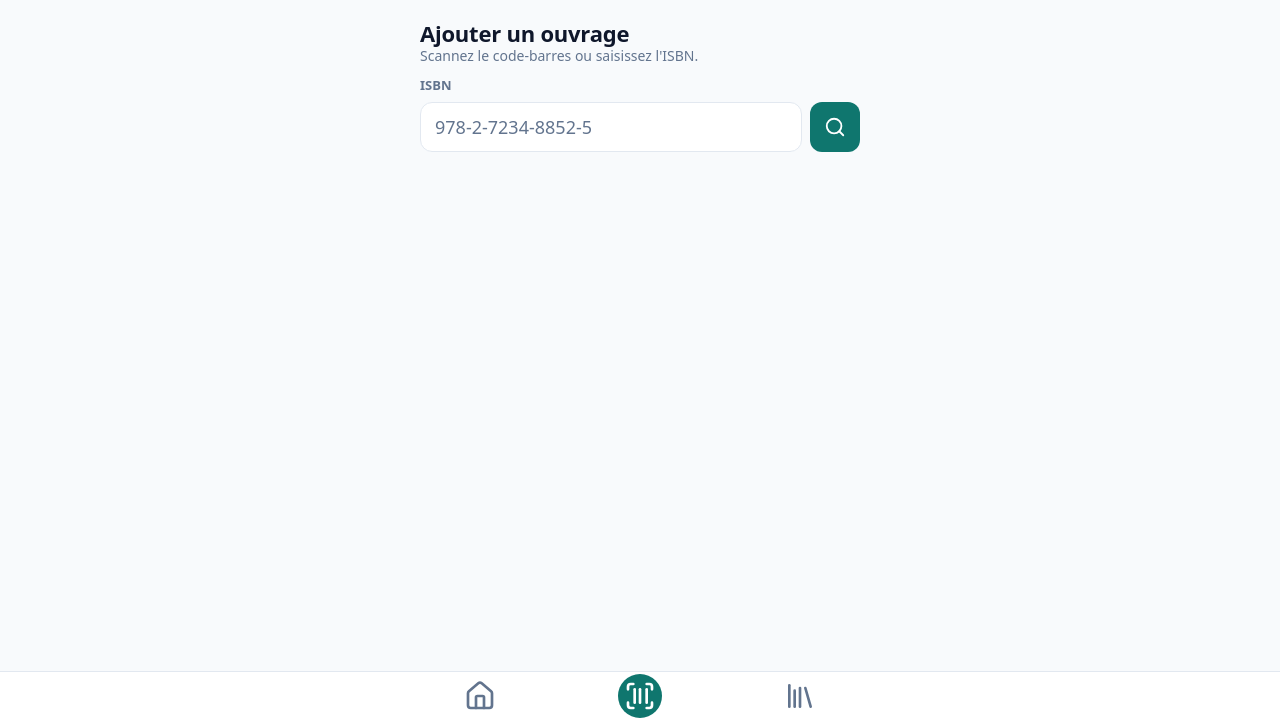
Edition form › S1 A new ISBN opens the form
In the field labelled "ISBN": (611, 127) [420, 102, 802, 152], type "9782723488525"
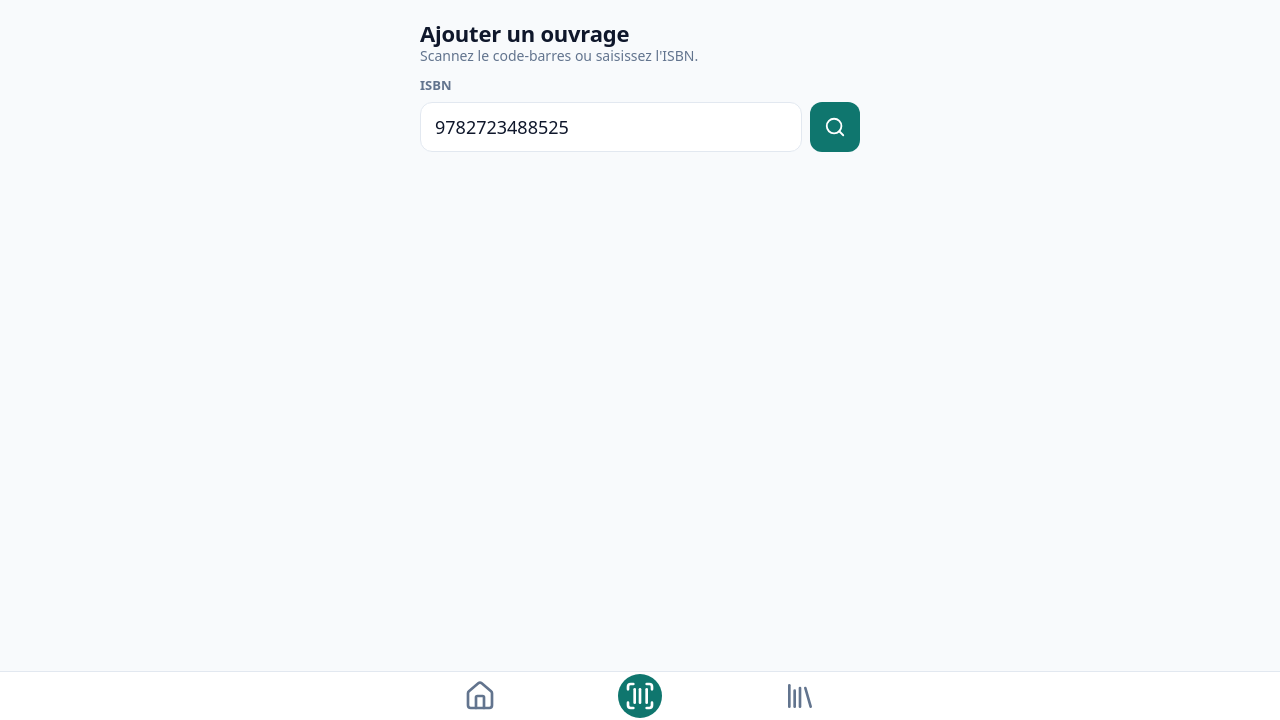
Click the button named "Chercher": (835, 127) [810, 102, 860, 152]
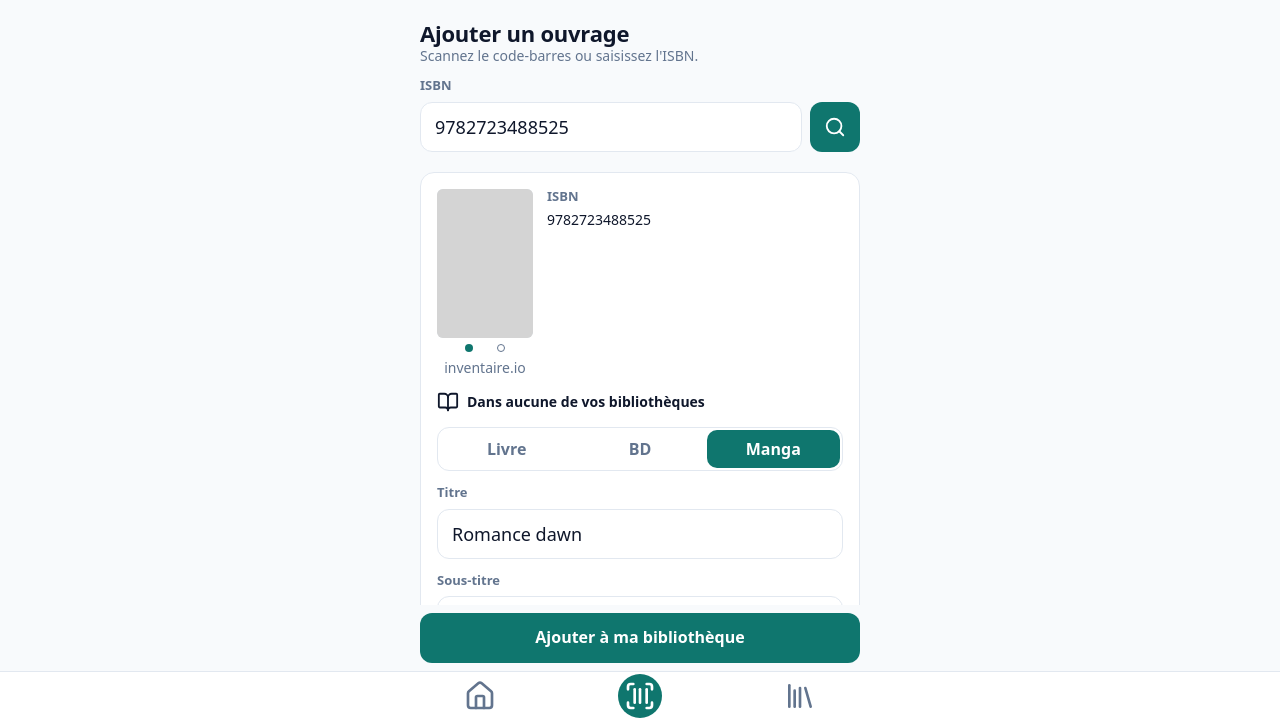
Result: the field labelled "Titre" is shown at [437, 509, 843, 559]
Result: the radio button labelled "Manga" is checked at [707, 430, 840, 468]
